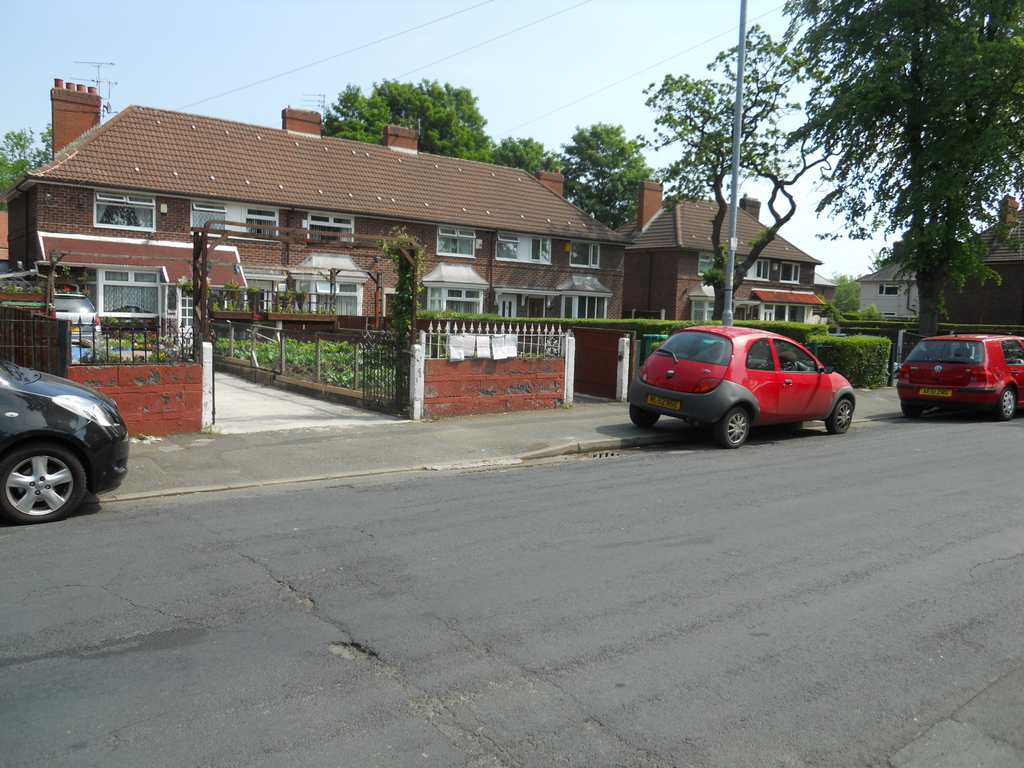Car: (622, 321, 856, 448), (0, 357, 131, 524), (896, 330, 1023, 418)
